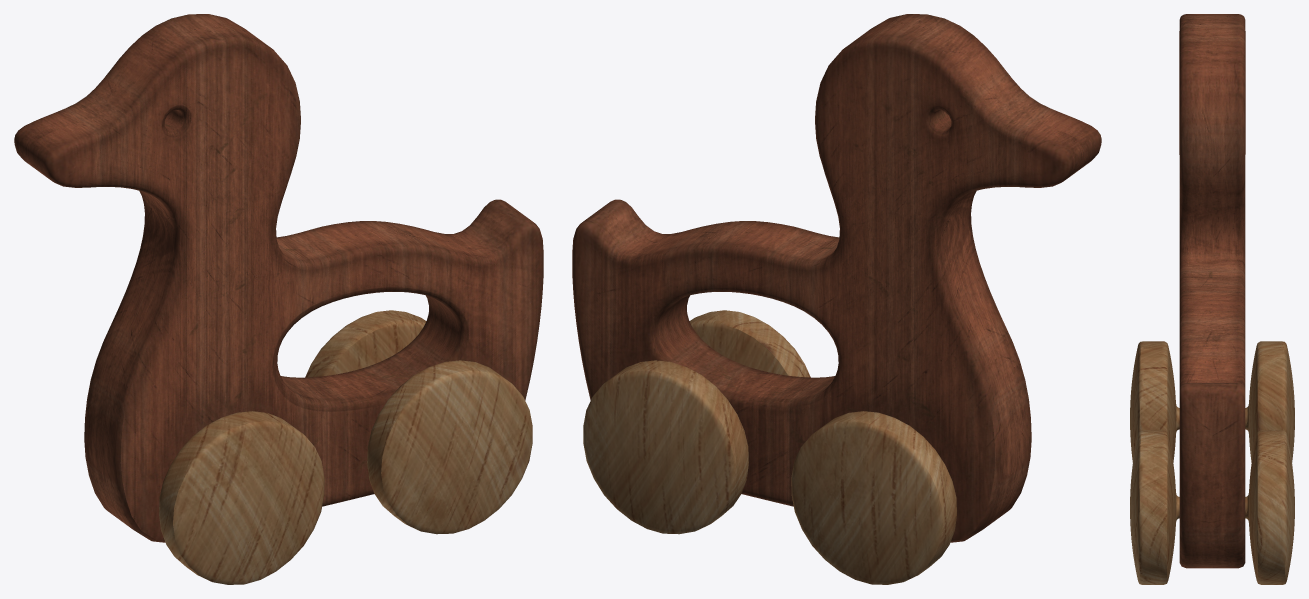
File: wooden_duck_toy.glb
3 views of the same model, side by side, from view 1: azimuth 30°, elevation 25°; view 2: azimuth 150°, elevation 25°; view 3: azimuth 270°, elevation 25° (orthographic). The views are drawn at different scales.
Visible parts, largest first — view 1: DUCK; view 2: DUCK; view 3: DUCK.
Part boxes in pixels (bbox=[...]): DUCK: bbox=[14, 14, 543, 584]; DUCK: bbox=[572, 14, 1101, 584]; DUCK: bbox=[1130, 14, 1294, 584].
Size of the model in its own units: 562 by 571 by 185.
1 material, 1 textured.
